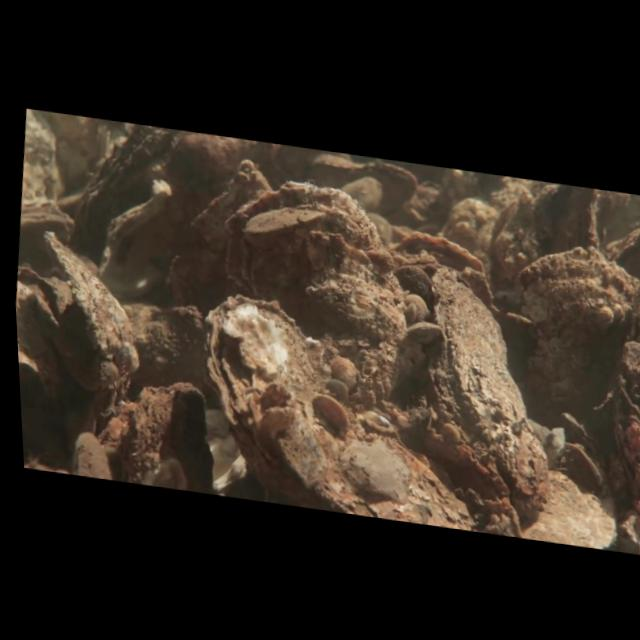Oyster-Closed: (200, 290, 478, 530), (222, 177, 411, 405), (423, 263, 552, 531), (43, 226, 145, 430), (65, 124, 183, 246), (92, 186, 173, 285), (237, 201, 331, 253), (564, 440, 610, 488), (21, 209, 74, 233), (22, 191, 68, 214)
Oyster-Indeterminate: (507, 244, 640, 409), (99, 381, 218, 489), (305, 152, 420, 213)
Oyster-Open: (387, 225, 502, 316)
